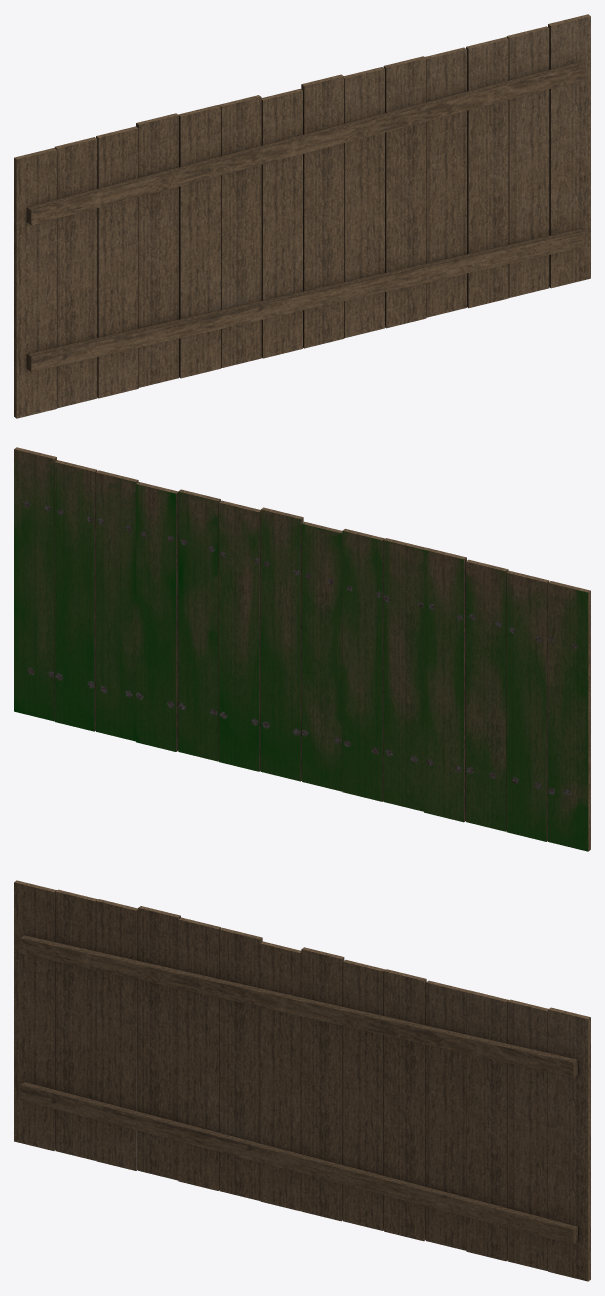
Rendered from zabor.glb.
The picture shows the model from 3 angles, top to bottom: view 1: azimuth 30°, elevation 25°; view 2: azimuth 150°, elevation 25°; view 3: azimuth 330°, elevation 25°; orthographic projection.
Parts seen in each view (by area): view 1: Fence; view 2: Fence; view 3: Fence.
Boxes of the visible parts, <box> form: Fence: <box>14,14,590,418</box>; Fence: <box>14,447,590,851</box>; Fence: <box>14,880,590,1281</box>.
Bounding box in the file's own units: 3 × 1.31 × 0.0715.
1 material, 1 textured.
